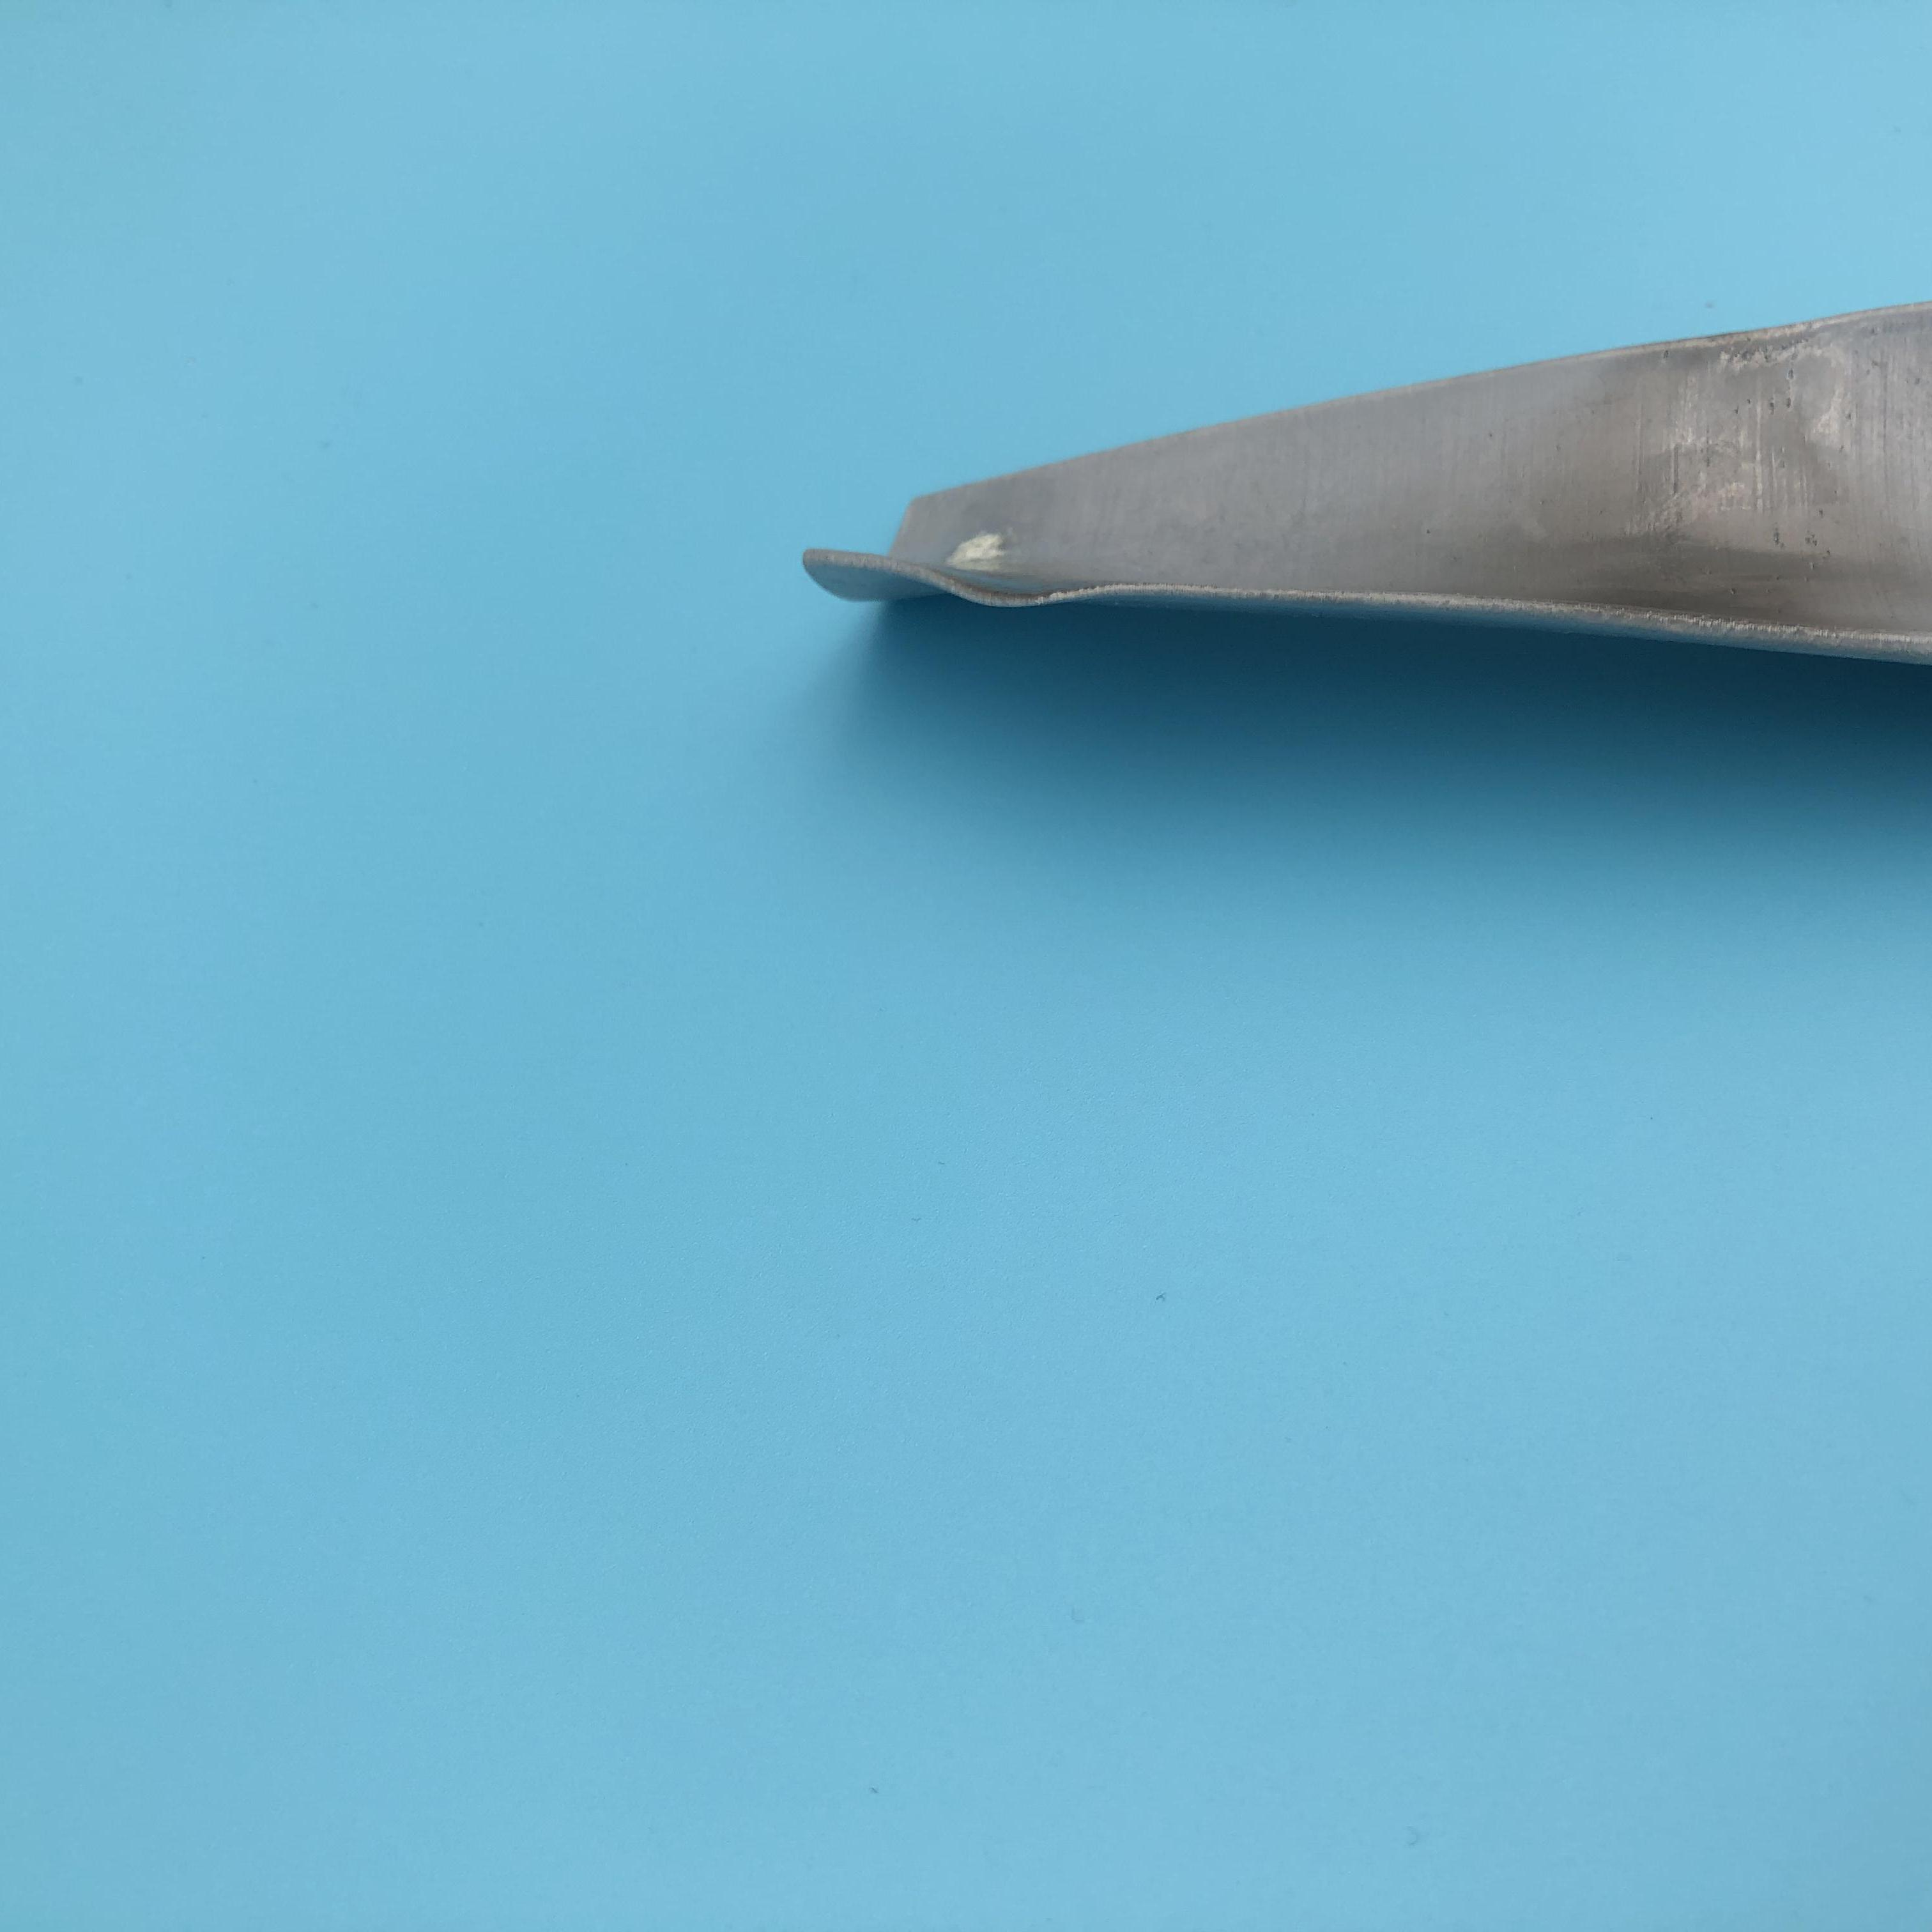ablation: (1603, 370, 1842, 640)
